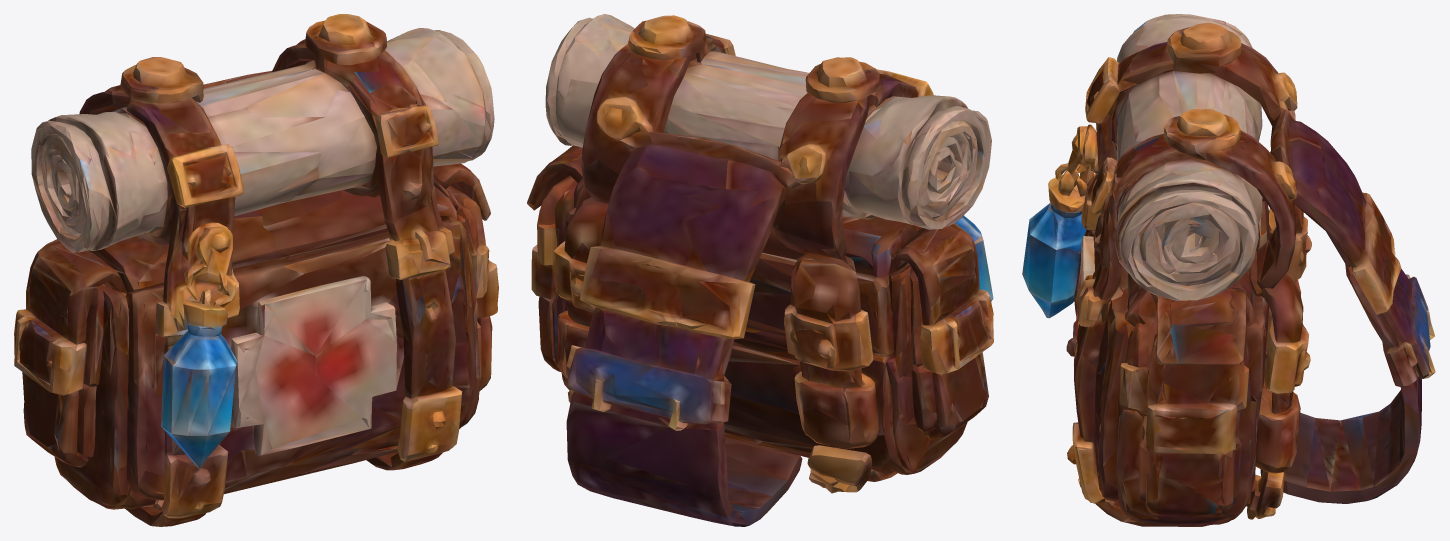
The model's file is shieldbeard-medic-pack-oct25.glb.
3 views of the same model, side by side, from view 1: azimuth 30°, elevation 25°; view 2: azimuth 150°, elevation 25°; view 3: azimuth 270°, elevation 25° (orthographic). The views are drawn at different scales.
Size of the model in its own units: 1.9 by 1.75 by 1.63.
Materials: 1 (1 with a texture image).
